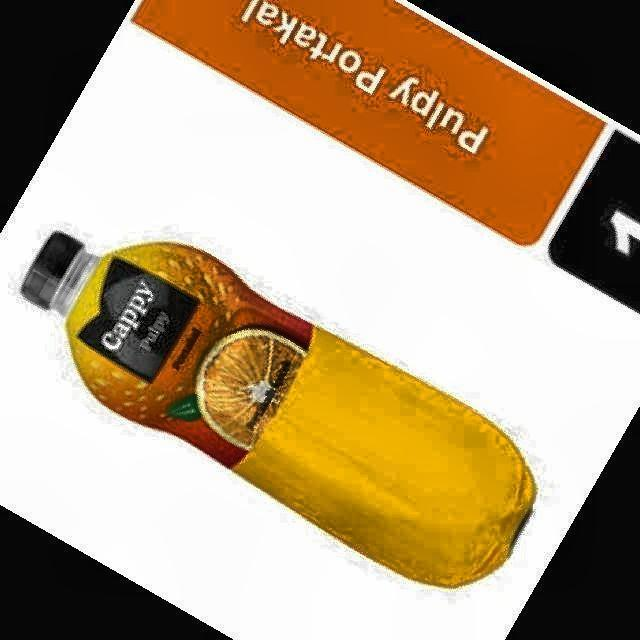plastic: (21, 231, 535, 586)
